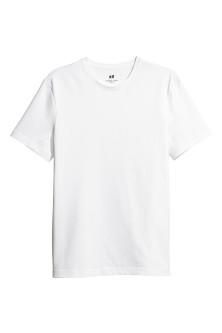teeshirt: (15, 52, 211, 290)
